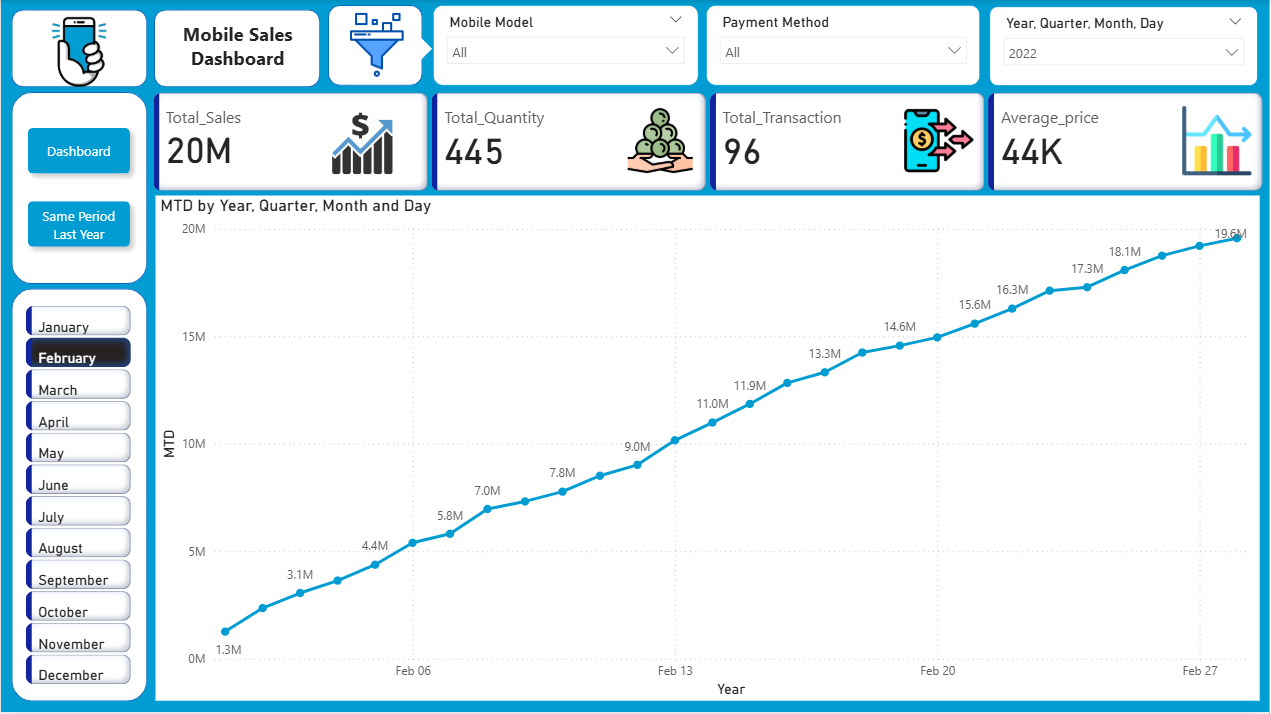

What the dashboard file says about the page in this screenshot:
{"tool":"powerbi","page":{"name":"MTD ","canvas":[1280,720],"ordinal":1},"visuals":[{"type":"shape","box":[10.8,10.8,136.9,78.5],"z":0},{"type":"image","box":[27.7,0,103.1,106.2],"z":1000},{"type":"shape","box":[10.8,93.8,136.9,193.8],"z":2000},{"type":"cardVisual","fields":{"Data":["Sales_Data.Total_Sales","Sales_Data.Total_Quantity","Sales_Data.Total_Transaction","Sales_Data.Average_price"]},"box":[147.7,89.2,1132.3,109.2],"z":3000},{"type":"slicer","fields":{"Values":["Sales_Data.Mobile Model"]},"box":[435.4,6.2,267.7,81.5],"z":4000},{"type":"slicer","fields":{"Values":["Sales_Data.Payment Method"]},"box":[712.3,6.2,276.9,81.5],"z":5000},{"type":"slicer","fields":{"Values":["Custom_Calender.Date.Variation.Date Hierarchy.Year","Custom_Calender.Date.Variation.Date Hierarchy.Quarter","Custom_Calender.Date.Variation.Date Hierarchy.Month","Custom_Calender.Date.Variation.Date Hierarchy.Day"]},"box":[998.5,7.7,270.8,80],"z":6000},{"type":"shape","box":[330.8,6.2,95.4,81.5],"z":7000},{"type":"shape","box":[153.8,10.8,167.7,78.5],"z":8000},{"type":"shape","box":[386.2,36.9,49.2,27.7],"z":9000},{"type":"image","box":[340,7.7,76.9,76.9],"z":10000},{"type":"textbox","box":[158.5,16.9,160,60],"z":11000},{"type":"lineChart","fields":{"Y":["Sales_Data.MTD"],"Category":["Custom_Calender.Date.Variation.Date Hierarchy.Year","Custom_Calender.Date.Variation.Date Hierarchy.Quarter","Custom_Calender.Date.Variation.Date Hierarchy.Month","Custom_Calender.Date.Variation.Date Hierarchy.Day"]},"box":[156,198.4,1114.5,510.3],"z":12000},{"type":"shape","box":[10.8,292.3,136.9,416.9],"z":12001},{"type":"advancedSlicerVisual","fields":{"Values":["Custom_Calender.Date.Variation.Date Hierarchy.Month"]},"box":[20,304.6,116.9,393.8],"z":12002},{"type":"pageNavigator","box":[18.2,121.1,121.1,139.3],"z":12003}]}

Visuals, with their boxes in screenshot pixels (x1, y1, x2, y2), scaled from the page's 1280x720 canvas onto the 1271x714 screenshot:
shape: 11 11 147 89
image: 28 0 130 105
shape: 11 93 147 285
cardVisual - Sales_Data.Total_Sales x Sales_Data.Total_Quantity: 147 88 1270 197
slicer - Sales_Data.Mobile Model: 432 6 698 87
slicer - Sales_Data.Payment Method: 707 6 982 87
slicer - Custom_Calender.Date.Variation.Date Hierarchy.Year x Custom_Calender.Date.Variation.Date Hierarchy.Quarter: 991 8 1260 87
shape: 328 6 423 87
shape: 153 11 319 89
shape: 383 37 432 64
image: 338 8 414 84
textbox: 157 17 316 76
lineChart - Sales_Data.MTD x Custom_Calender.Date.Variation.Date Hierarchy.Year: 155 197 1262 703
shape: 11 290 147 703
advancedSlicerVisual - Custom_Calender.Date.Variation.Date Hierarchy.Month: 20 302 136 693
pageNavigator: 18 120 138 258
